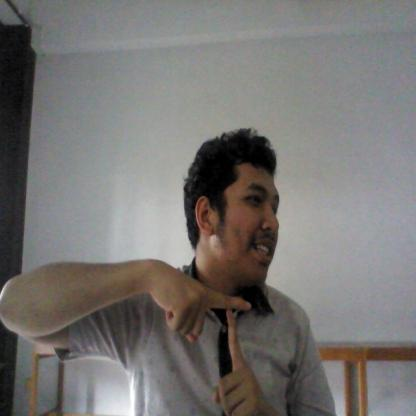T: (150, 257, 260, 416)
